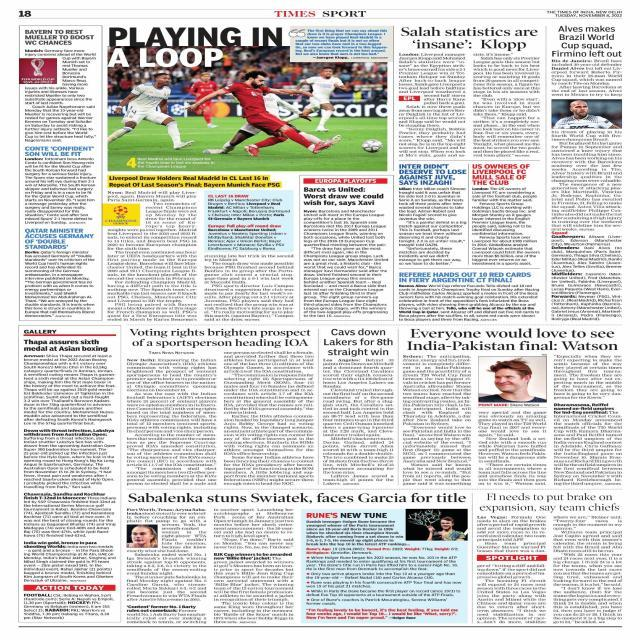Article: (400, 326, 626, 486), (124, 326, 316, 486), (105, 174, 296, 322), (21, 338, 118, 584), (548, 24, 626, 323), (124, 506, 296, 625), (475, 490, 624, 625), (396, 24, 542, 158), (302, 509, 466, 622), (300, 185, 392, 319), (320, 327, 397, 487), (21, 27, 98, 143), (470, 162, 543, 267), (396, 162, 468, 268), (398, 271, 542, 323), (22, 226, 97, 320), (22, 144, 98, 226)
Body: (550, 130, 624, 322), (222, 351, 315, 485), (127, 358, 218, 486), (303, 210, 390, 318), (323, 358, 396, 486), (402, 354, 472, 486), (108, 228, 198, 321), (304, 556, 462, 606), (552, 516, 622, 624), (398, 52, 466, 158), (472, 52, 540, 157), (23, 354, 117, 426), (203, 254, 294, 322), (212, 552, 295, 624), (553, 404, 623, 485), (24, 429, 116, 490), (398, 186, 466, 266), (397, 284, 540, 322), (472, 187, 541, 265), (478, 410, 548, 486), (25, 157, 97, 225), (24, 250, 96, 318), (23, 492, 117, 538), (125, 549, 208, 601), (476, 564, 546, 624), (24, 86, 96, 142), (23, 542, 116, 582), (212, 508, 296, 550), (552, 354, 622, 399), (550, 58, 623, 96), (476, 515, 546, 553), (306, 520, 404, 546), (208, 198, 290, 220), (207, 228, 288, 250), (126, 604, 207, 624), (145, 203, 198, 228), (160, 523, 208, 549), (126, 508, 207, 522), (61, 57, 98, 86), (106, 191, 197, 202), (24, 49, 96, 56)
Date: (555, 14, 622, 18)
Heading: (107, 28, 283, 66), (406, 328, 620, 351), (129, 328, 313, 348), (402, 26, 540, 52), (126, 492, 469, 502), (479, 492, 621, 513), (552, 26, 622, 58), (323, 328, 394, 356), (398, 163, 467, 186), (303, 187, 384, 206), (472, 163, 532, 186), (23, 29, 96, 46), (22, 339, 110, 352)
Highlights: (290, 28, 388, 56), (23, 594, 115, 620), (106, 175, 282, 187), (306, 608, 460, 620), (24, 227, 95, 249), (306, 547, 460, 555), (24, 146, 96, 156), (304, 512, 388, 518), (207, 224, 282, 228), (207, 194, 250, 198)
Image: (106, 68, 386, 172), (478, 356, 546, 402), (406, 509, 468, 540), (20, 59, 58, 85), (103, 204, 141, 226), (126, 524, 158, 548)
Name: (273, 10, 368, 18)
